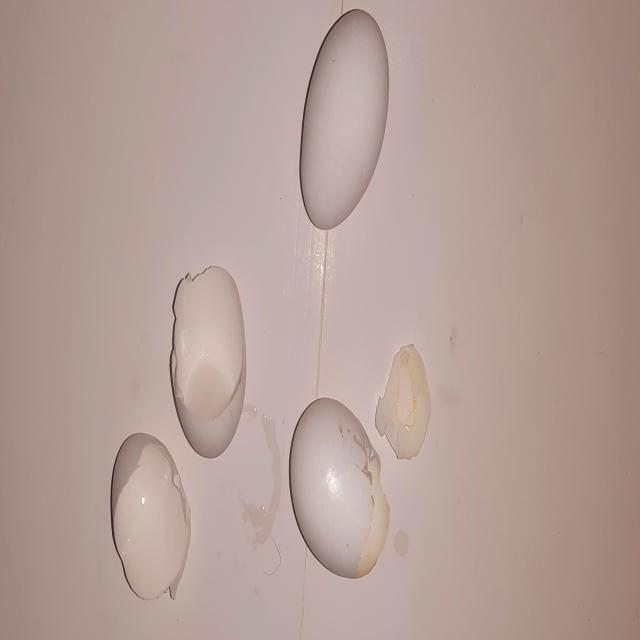egg shell: (294, 0, 394, 245), (285, 391, 394, 587), (168, 256, 250, 466), (106, 428, 194, 610), (372, 334, 432, 460)
